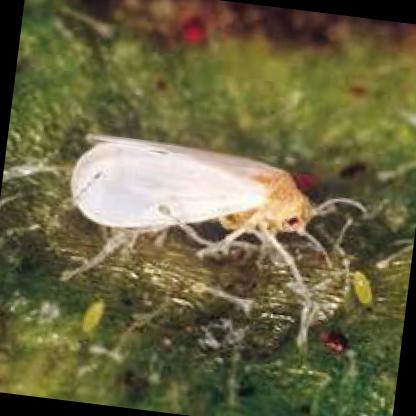whitefly: (71, 133, 317, 233)
